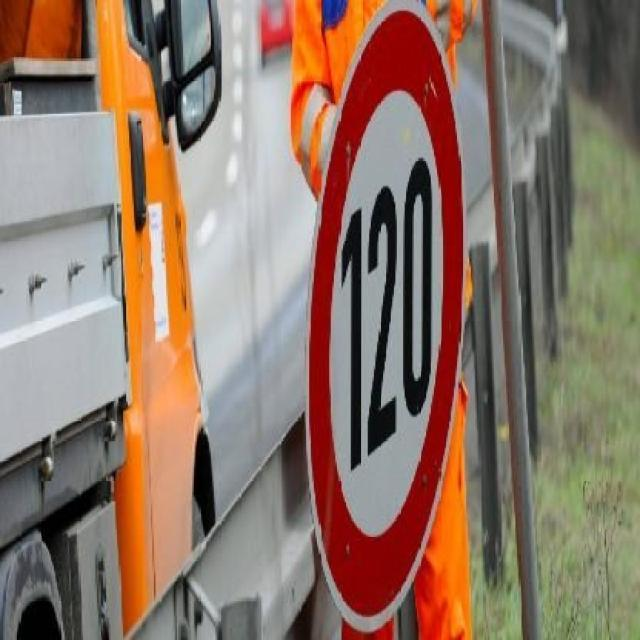forb_speed_over_120: (316, 0, 456, 623)
